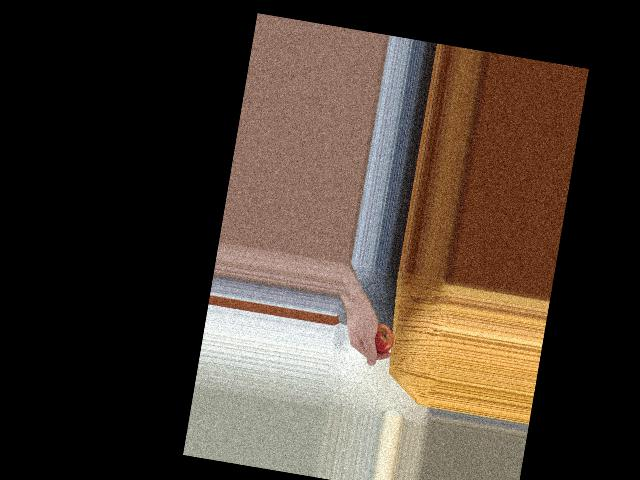apple: (362, 319, 398, 356)
